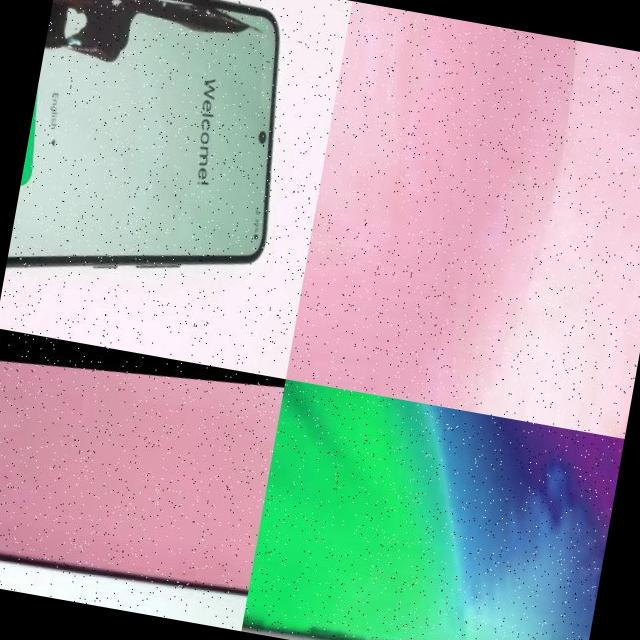dead pixel: (41, 0, 300, 101)
screen crack: (240, 379, 551, 640)
